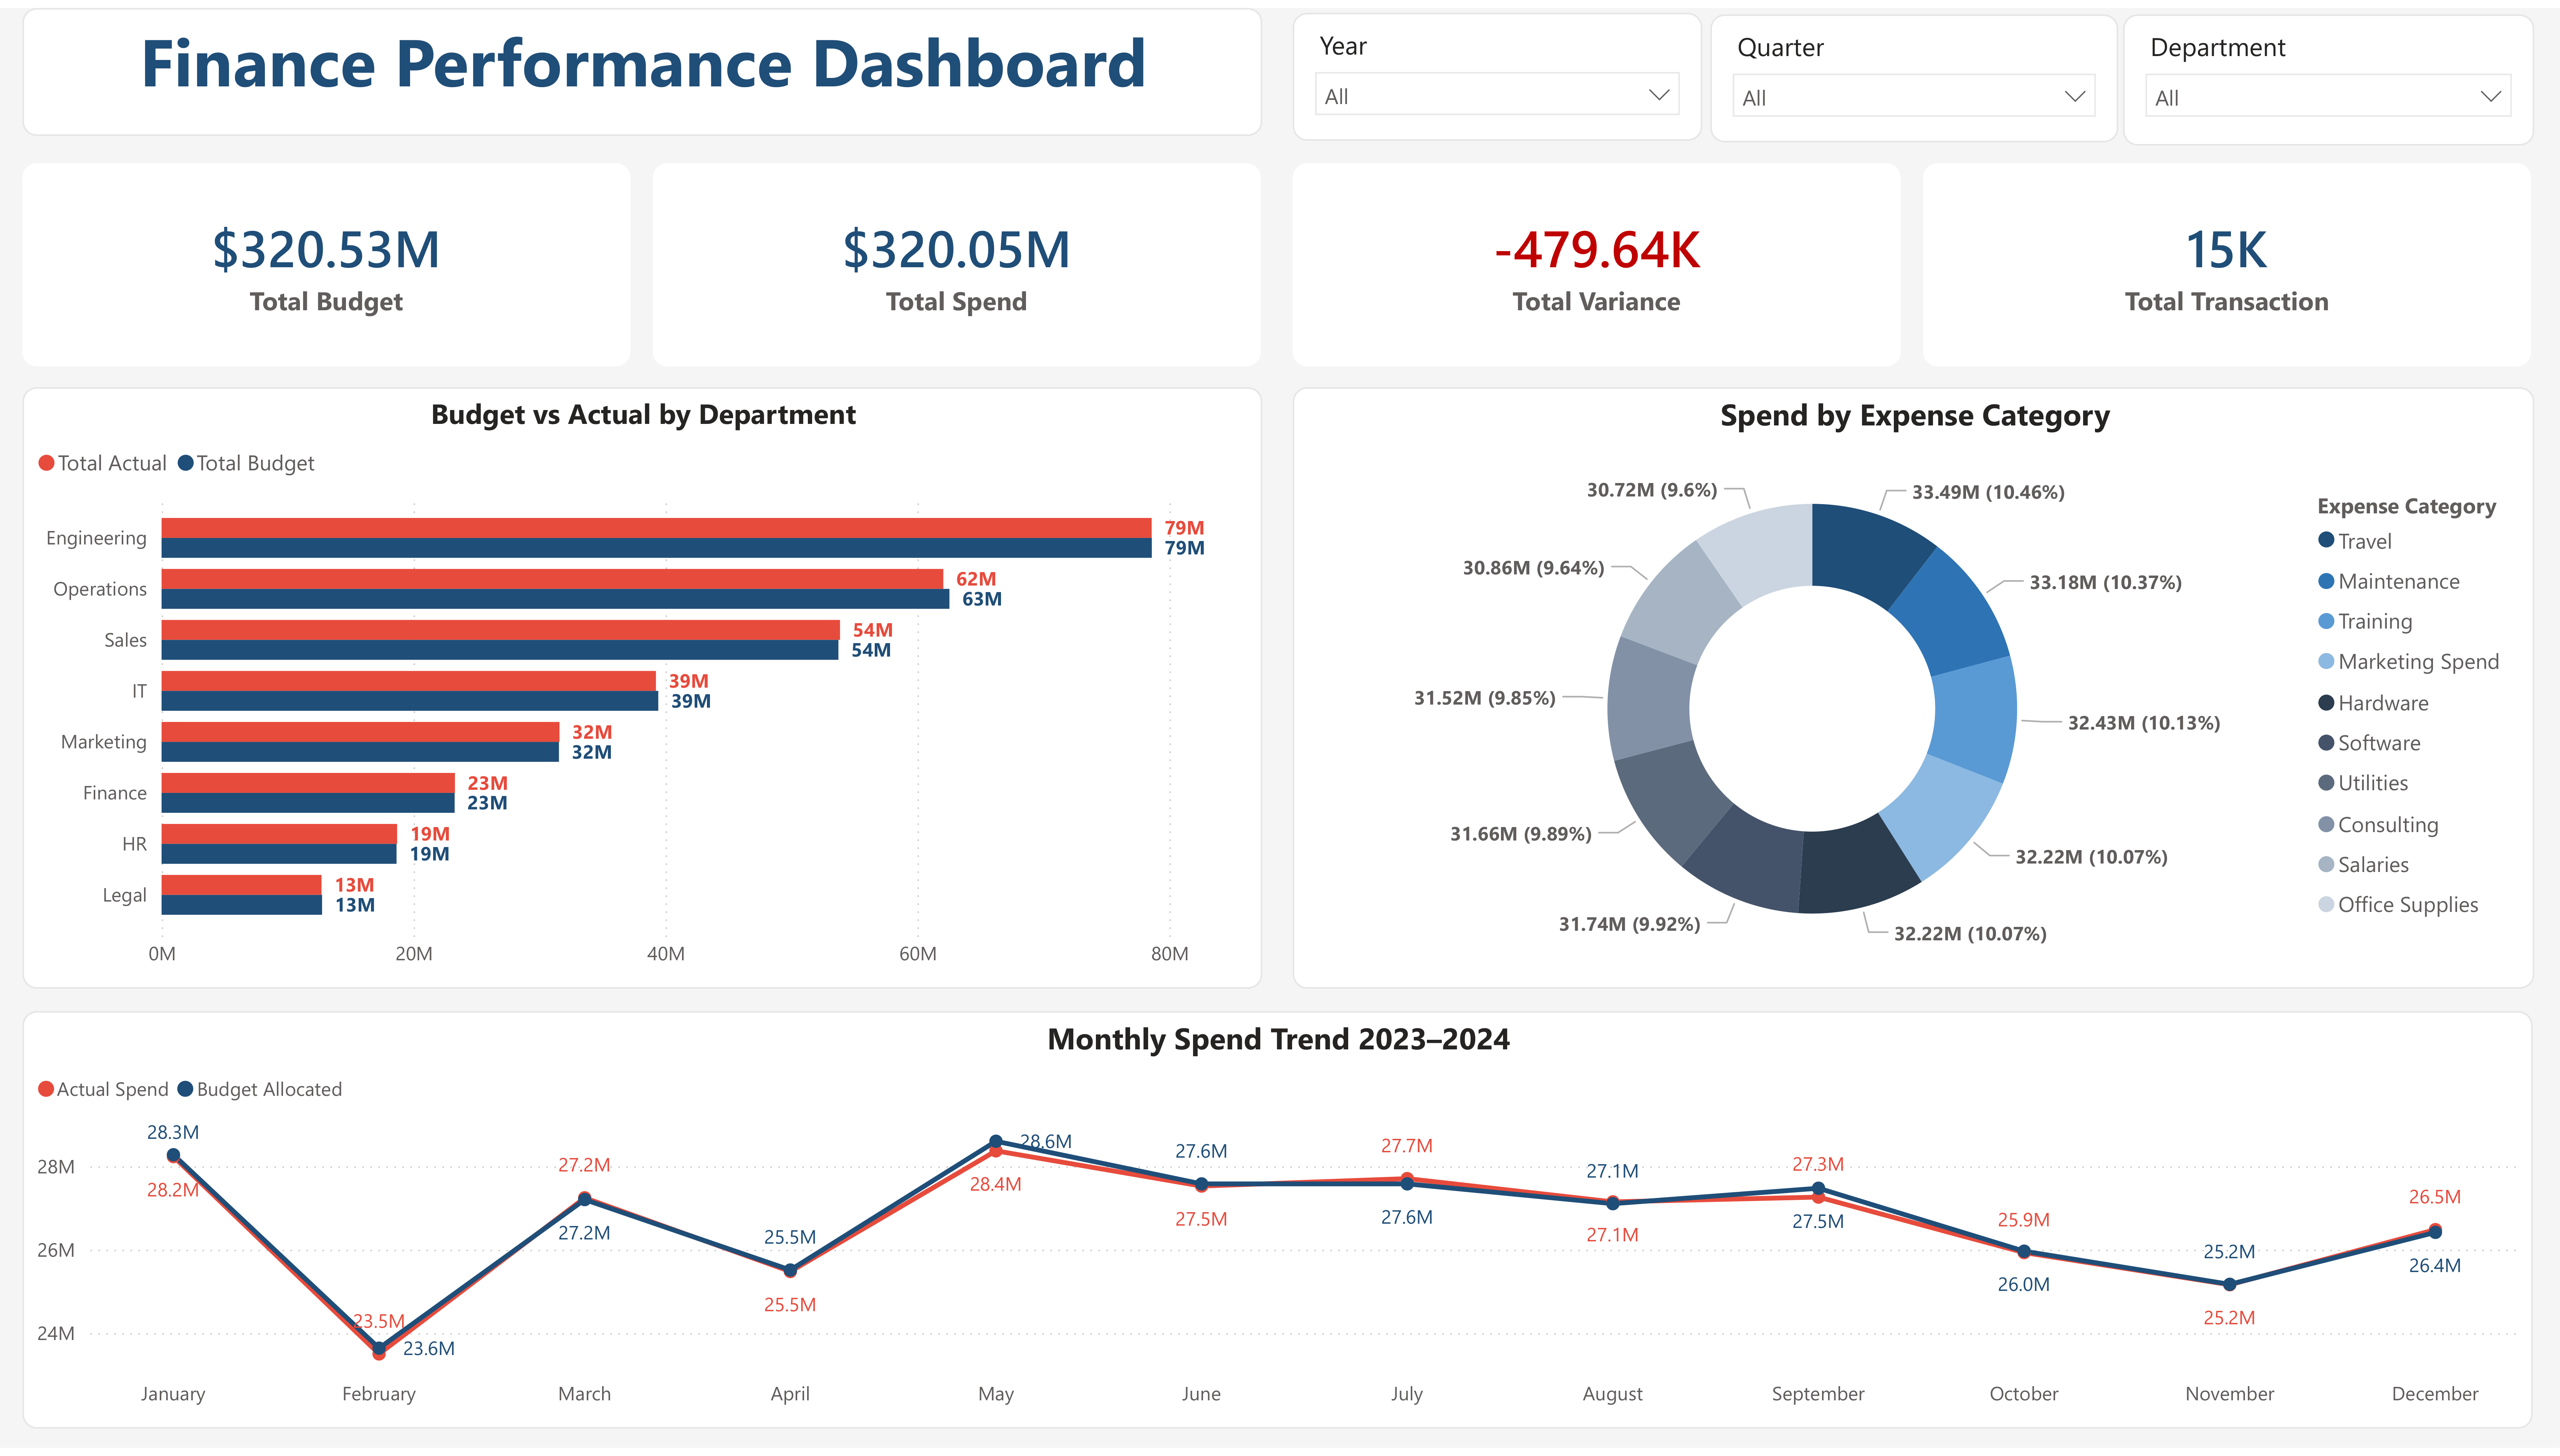

Layout of this report page (visuals, bound fields, positions):
{"tool":"powerbi","page":{"name":"Page 1","canvas":[1600,900],"ordinal":0},"visuals":[{"type":"cardVisual","title":"Total Budget","fields":{"Data":["Sum(Transactions.Budget Allocated)"]},"box":[13.9,97,380.2,126.7],"z":0},{"type":"cardVisual","title":"Total Budget","fields":{"Data":["Sum(Transactions.Actual Spend)"]},"box":[407.9,97,380.2,126.7],"z":1000},{"type":"cardVisual","title":"Total Budget","fields":{"Data":["Sum(Transactions.Variance)"]},"box":[807.9,97,380.2,126.7],"z":2000},{"type":"cardVisual","title":"Total Budget","fields":{"Data":["CountNonNull(Transactions.Transaction ID)"]},"box":[1202,97,380.2,126.7],"z":3000},{"type":"clusteredBarChart","title":"Budget vs Actual by Department","fields":{"Category":["Department Summary.Department"],"Y":["Sum(Department Summary.Total Actual)","Sum(Department Summary.Total Budget)"]},"box":[13.7,237.3,774.5,376.5],"z":4000},{"type":"lineChart","title":"Monthly Spend Trend 2023–2024","fields":{"Y":["Sum(Transactions.Actual Spend)","Sum(Transactions.Budget Allocated)"],"Category":["Transactions.Date.Variation.Date Hierarchy.Month"]},"box":[13.7,627.5,1568.6,260.8],"z":5000},{"type":"donutChart","title":"Spend by Expense Category","fields":{"Category":["Transactions.Expense Category"],"Y":["Sum(Transactions.Actual Spend)"]},"box":[807.8,237.3,776.5,376.5],"z":6000},{"type":"textbox","title":"Finance Performance Dashboard","box":[13.7,0,774.5,80.4],"z":7000},{"type":"slicer","fields":{"Values":["Transactions.Year"]},"box":[807.8,3.5,256,80.4],"z":7001},{"type":"slicer","fields":{"Values":["Transactions.Date.Variation.Date Hierarchy.Quarter"]},"box":[1068.6,3.9,254.9,80.4],"z":7002},{"type":"slicer","fields":{"Values":["Transactions.Department"]},"box":[1327.5,3.9,256.9,82.4],"z":7003}]}

Visuals, with their boxes in screenshot pixels (x1, y1, x2, y2), scaled from the page's 1600x900 canvas onto the 2560x1456 screenshot:
"Total Budget" cardVisual: l=22, t=157, r=630, b=362
"Total Budget" cardVisual: l=653, t=157, r=1261, b=362
"Total Budget" cardVisual: l=1292, t=157, r=1901, b=362
"Total Budget" cardVisual: l=1923, t=157, r=2532, b=362
"Budget vs Actual by Department" clusteredBarChart: l=22, t=384, r=1261, b=993
"Monthly Spend Trend 2023–2024" lineChart: l=22, t=1015, r=2532, b=1437
"Spend by Expense Category" donutChart: l=1292, t=384, r=2535, b=993
"Finance Performance Dashboard" textbox: l=22, t=0, r=1261, b=130
slicer - Transactions.Year: l=1292, t=6, r=1702, b=136
slicer - Transactions.Date.Variation.Date Hierarchy.Quarter: l=1710, t=6, r=2118, b=136
slicer - Transactions.Department: l=2124, t=6, r=2535, b=140
